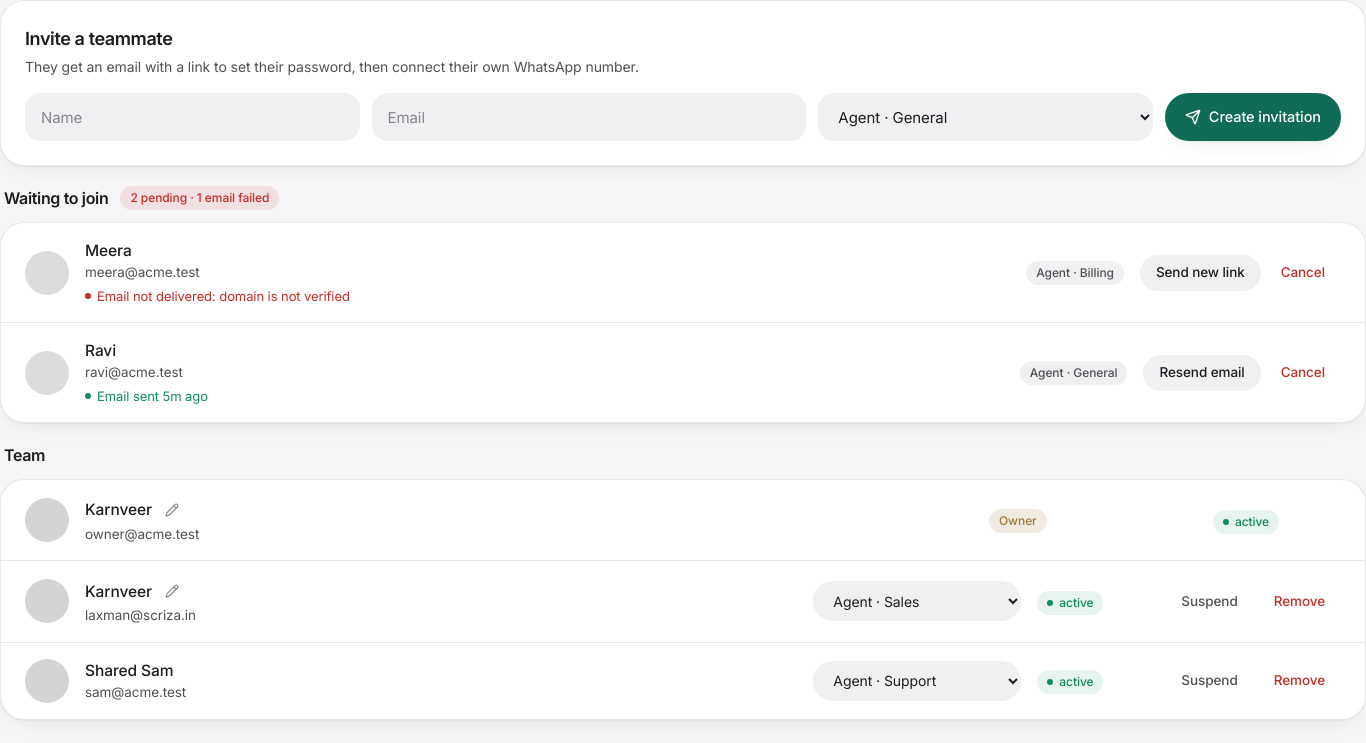
Team screen › shows whether each invitation email was delivered and lets you resend or cancel
Expected: the text "Email not delivered: domain is not verified" is shown, x1=97 y1=286 x2=350 y2=306
Expected: the text "Email sent 5m ago" is shown, x1=97 y1=386 x2=208 y2=406
Click the button "Send new link" at (1200,272), box x1=1140 y1=254 x2=1261 y2=290
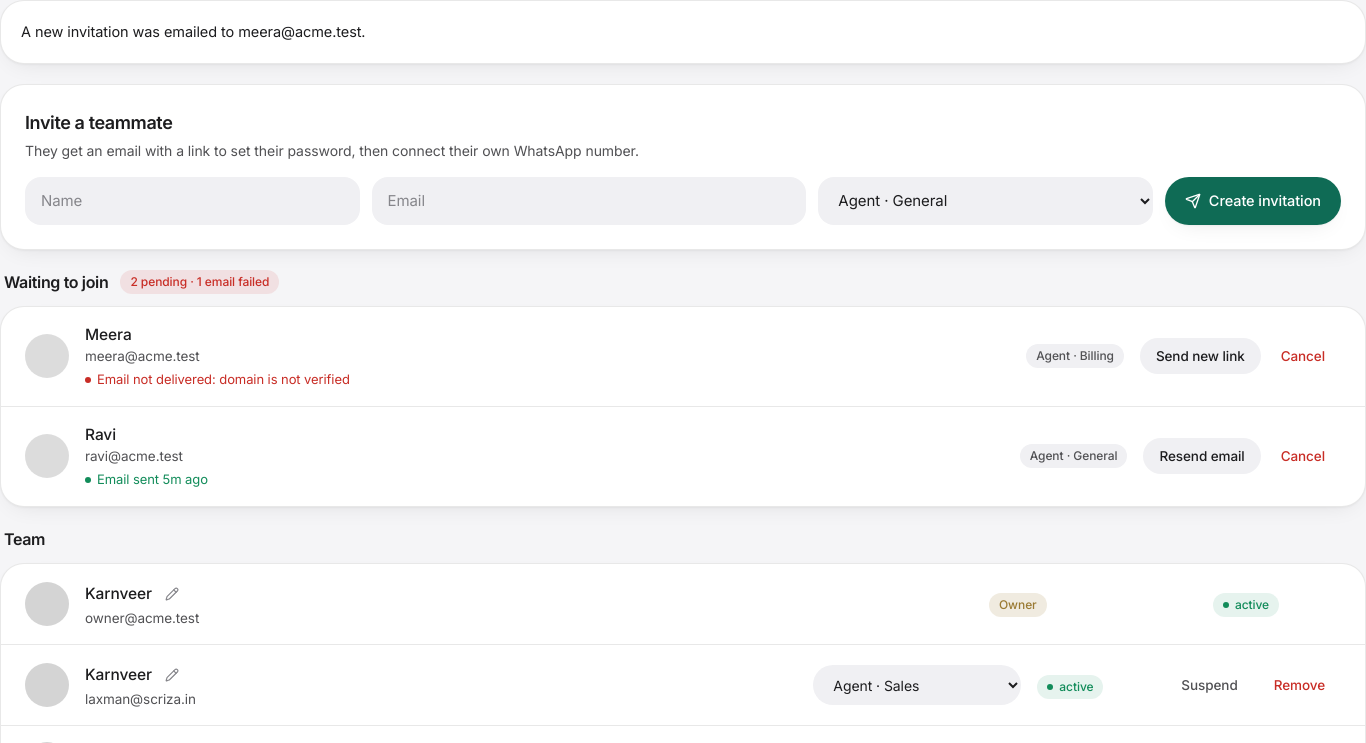
Expected: the text "A new invitation was emailed to meera@acme.test." is shown, x1=21 y1=23 x2=366 y2=40
